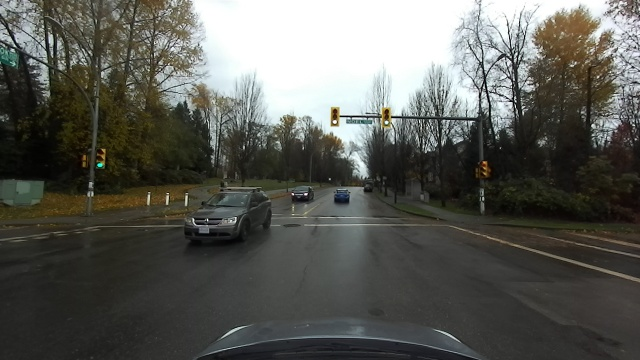car: (180, 183, 278, 244), (290, 184, 316, 202), (331, 187, 352, 204), (363, 184, 375, 193)
